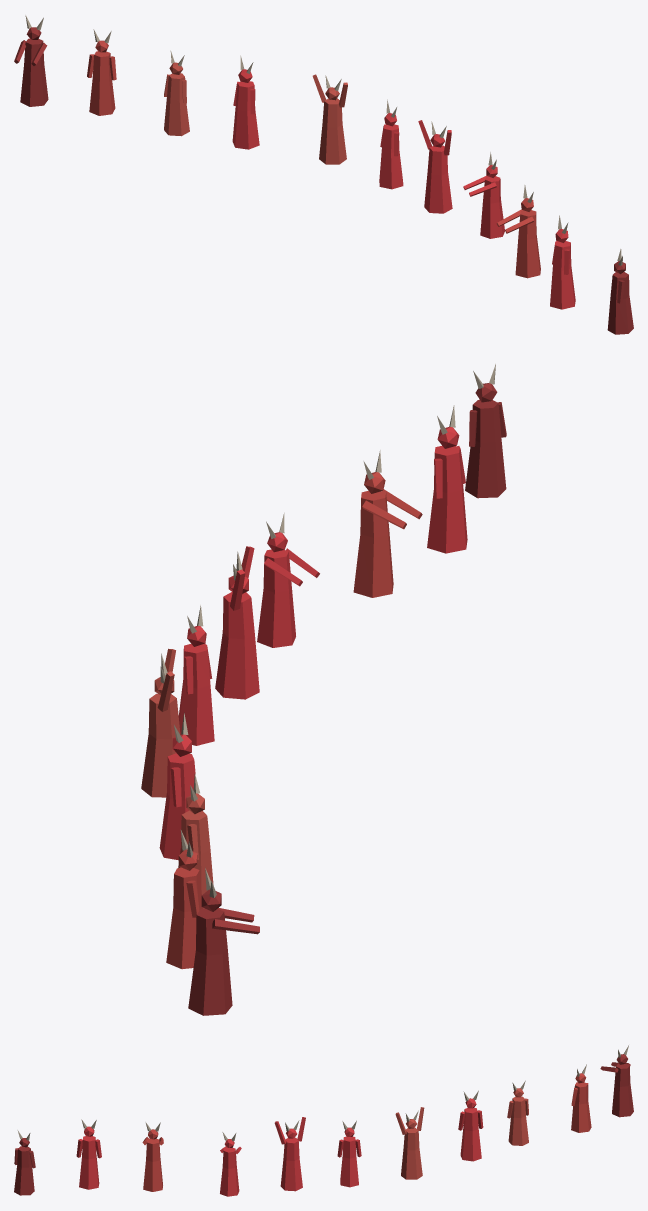
File: Stands_7_1_2.obj
The picture shows the model from 3 angles, top to bottom: view 1: azimuth 30°, elevation 25°; view 2: azimuth 150°, elevation 25°; view 3: azimuth 270°, elevation 25°; orthographic projection. The views are drawn at different scales.
Visible parts, largest first — view 1: Stands_7_1_2; view 2: Stands_7_1_2; view 3: Stands_7_1_2.
Part boxes in pixels (box(x1,y1,x2,y2)): Stands_7_1_2: box(14, 15, 633, 334); Stands_7_1_2: box(141, 364, 506, 1015); Stands_7_1_2: box(14, 1045, 633, 1196).
Size of the model in its own units: 11.71 by 3.89 by 32.6.
Materials: 1 (1 with a texture image).
